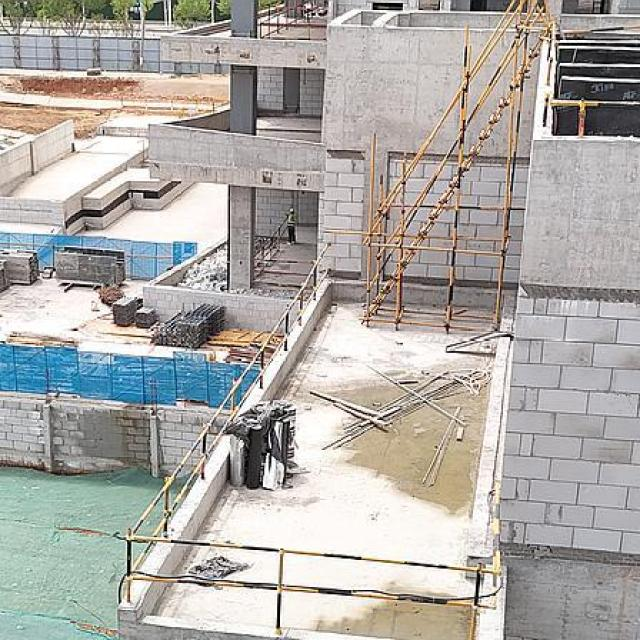Guardrail: (123, 241, 503, 640), (541, 29, 640, 138), (251, 216, 316, 290), (256, 0, 326, 40), (561, 26, 640, 33)
